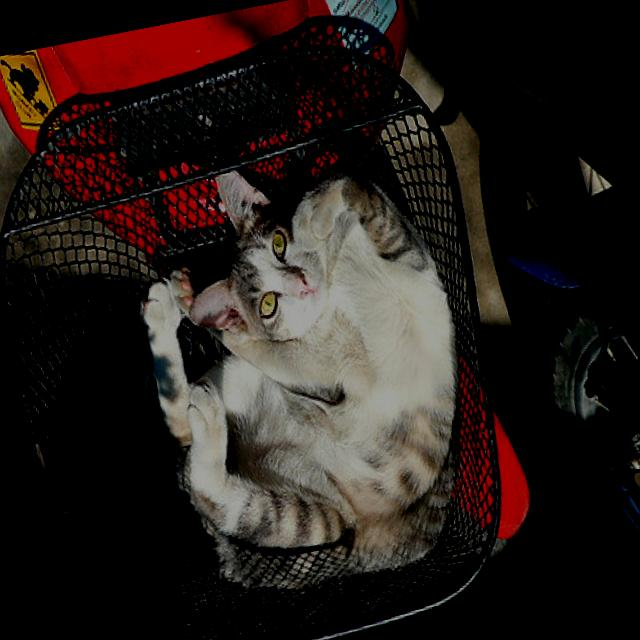Vehicle: (401, 0, 640, 424), (467, 53, 640, 597)
